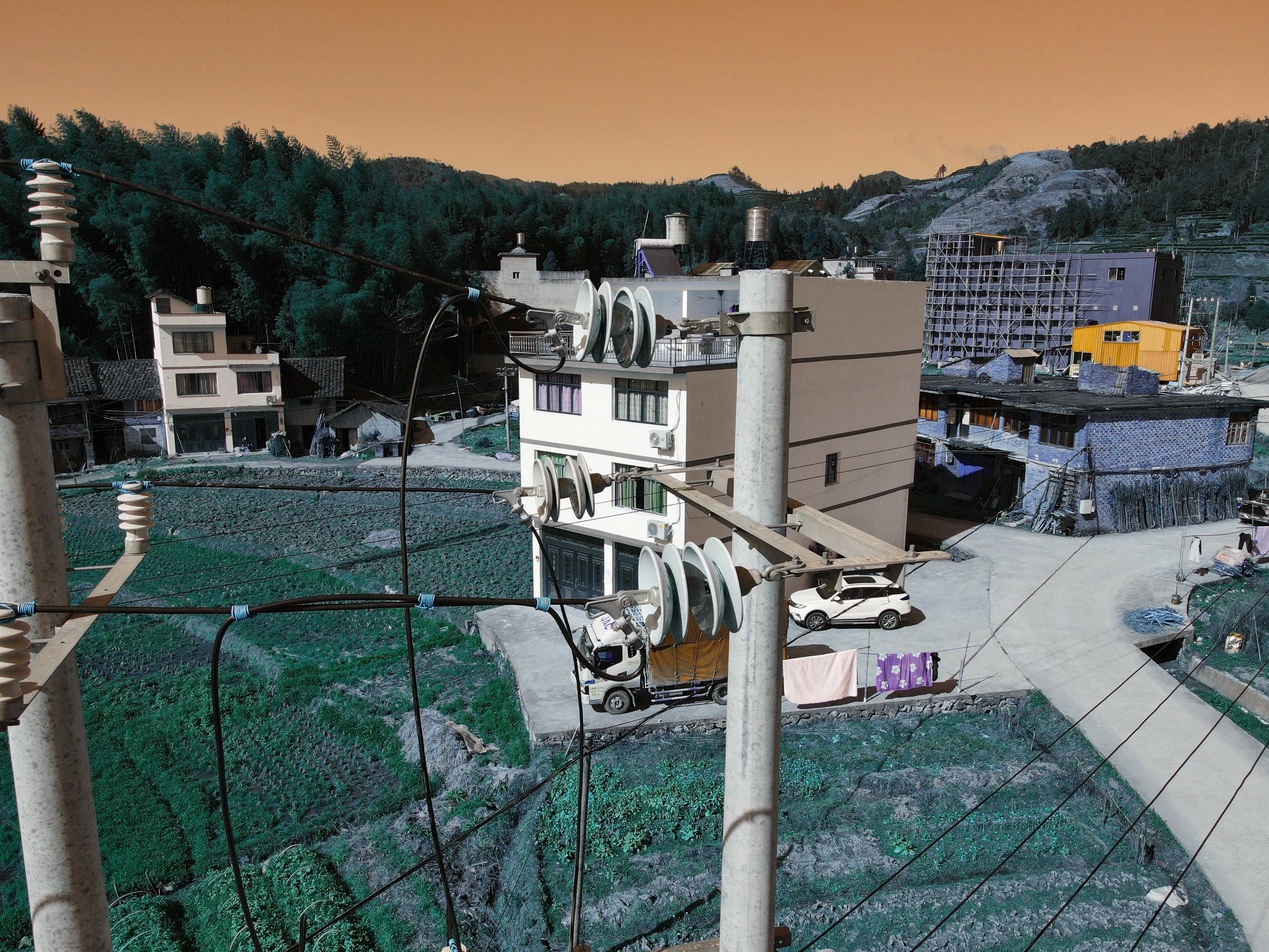severe_soiling_no_discharge_whole: (633, 533, 760, 648), (568, 279, 673, 367), (528, 452, 612, 526)
